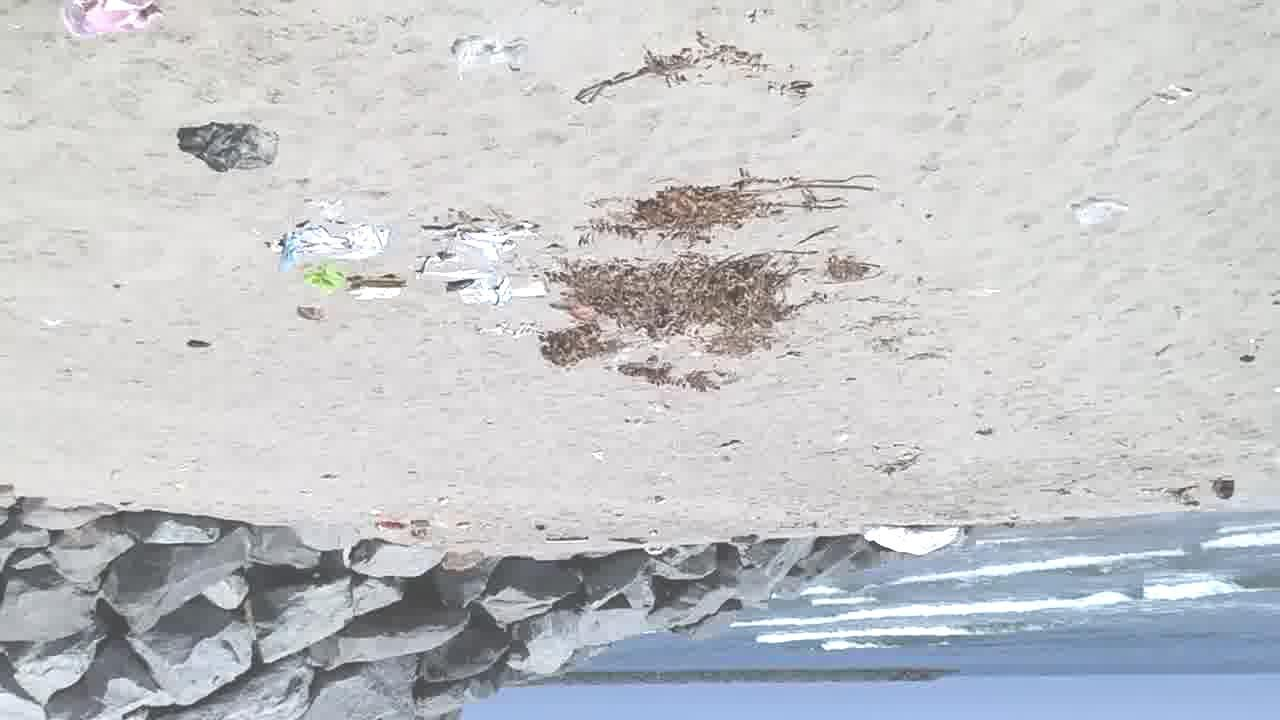obj: (542, 248, 882, 366), (580, 166, 880, 246), (572, 38, 808, 110), (419, 219, 552, 302), (290, 219, 408, 302), (172, 120, 279, 176), (62, 1, 161, 39), (456, 33, 530, 79), (622, 360, 722, 393), (854, 526, 968, 554), (1070, 194, 1144, 230), (1214, 481, 1240, 498), (297, 309, 321, 321), (186, 341, 208, 350)
sand/background: (0, 479, 1280, 719)
